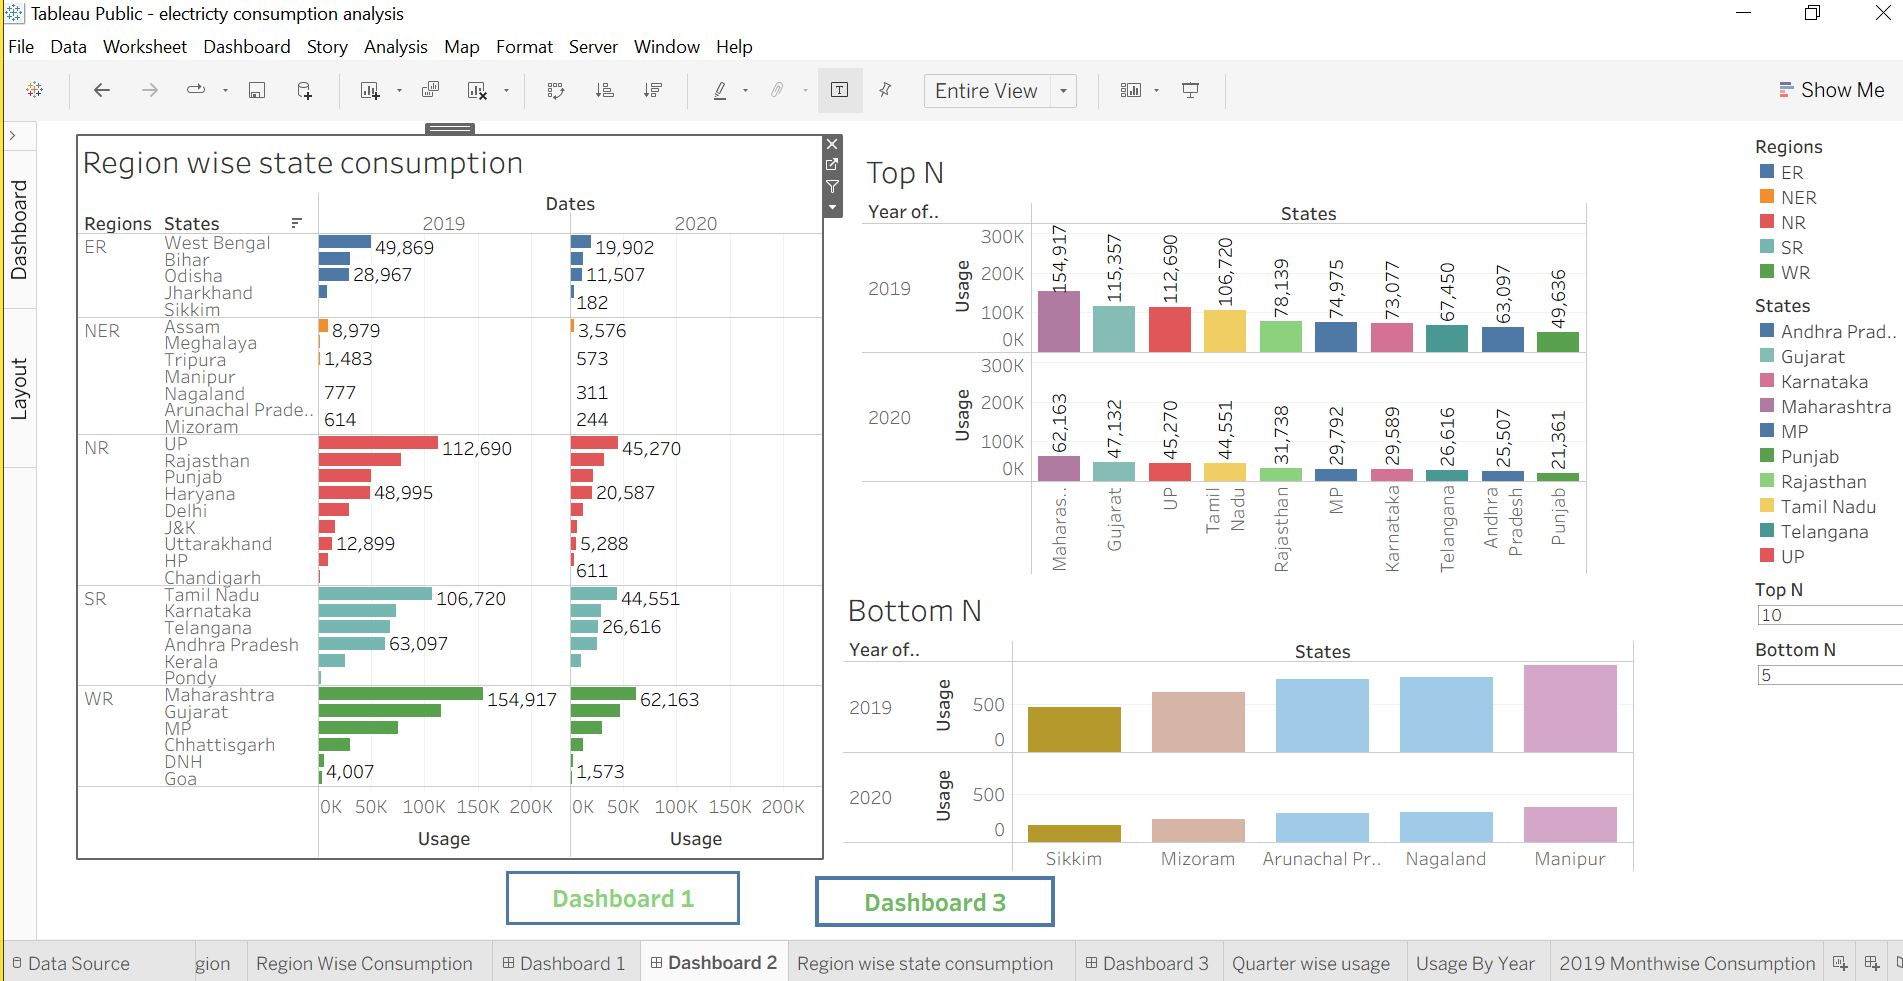

What the dashboard file says about the page in this screenshot:
{"tool":"tableau","page":{"name":"Dashboard 2","canvas":[1000,1000],"units":"permille","ordinal":1},"visuals":[{"type":"legend","title":"Region wise state consumption","param":"[federated.0nzlmpl1kv5g8j0zk3tzo1f6s7qc].[none:Regions:nk]","box":[910.7,9.8,85,194.4]},{"type":"worksheet","title":"Region wise state consumption","mark":"Bar","rows":["Regions","States"],"cols":["Dates","Usage"],"box":[21.6,18.3,395.7,882.6]},{"type":"worksheet","title":"Top N","mark":"Bar","rows":["Dates","Usage"],"cols":["States"],"box":[438.2,30.6,385.2,524.5]},{"type":"legend","title":"Top N","param":"[federated.0nzlmpl1kv5g8j0zk3tzo1f6s7qc].[none:States:nk]","box":[910.7,204.2,85,347.2]},{"type":"parameter","param":"[Parameters].[Parameter 0444767784673281]","box":[910.7,551.4,85,73.4]},{"type":"worksheet","title":"Bottom N","mark":"Bar","rows":["Dates","Usage"],"cols":["States"],"box":[428.4,566,420.5,352.1]},{"type":"parameter","param":"[Parameters].[Parameter 0444767786074114]","box":[910.7,624.7,85,73.4]},{"type":"dashboard-object","box":[249.2,916.9,124.3,66]},{"type":"dashboard-object","box":[413.3,923,127.5,62.4]}]}

Visuals, with their boxes on the dashboard's canvas, which has no fixed pixel size, in thousandths of its width and height (x1, y1, x2, y2). These are canvas units, not pixel positions in the 1903x981 screenshot, which may show the page scaled, cropped or inside an application window:
"Region wise state consumption" legend: rect(911, 10, 996, 204)
"Region wise state consumption" worksheet (Bar marks): rect(22, 18, 417, 901)
"Top N" worksheet (Bar marks): rect(438, 31, 823, 555)
"Top N" legend: rect(911, 204, 996, 551)
parameter: rect(911, 551, 996, 625)
"Bottom N" worksheet (Bar marks): rect(428, 566, 849, 918)
parameter: rect(911, 625, 996, 698)
dashboard-object: rect(249, 917, 374, 983)
dashboard-object: rect(413, 923, 541, 985)
